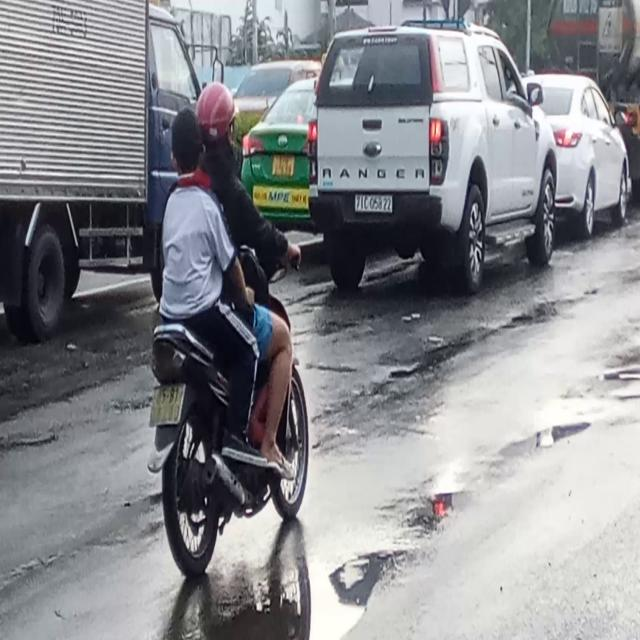bien_trang: (353, 186, 397, 218)
